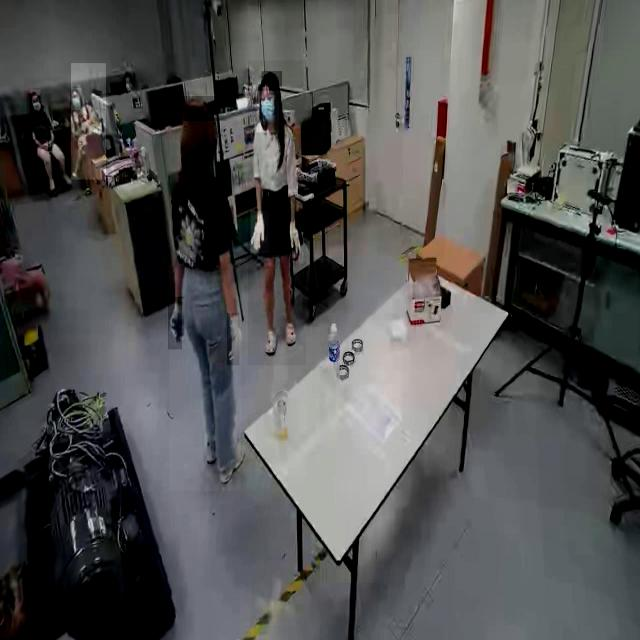face_mask: (257, 90, 279, 132), (26, 94, 42, 116), (72, 88, 82, 110)
hand_glove: (284, 213, 300, 266), (250, 211, 269, 254), (168, 297, 182, 350), (227, 313, 240, 366)
hand_noglove: (41, 142, 49, 150), (48, 139, 52, 152)
head_nohelmet: (183, 96, 217, 122), (261, 71, 282, 88), (70, 85, 80, 92), (30, 90, 40, 96)
person: (169, 89, 241, 491), (248, 61, 306, 367), (24, 77, 70, 191), (70, 63, 106, 181)
shoes: (218, 432, 248, 484)
